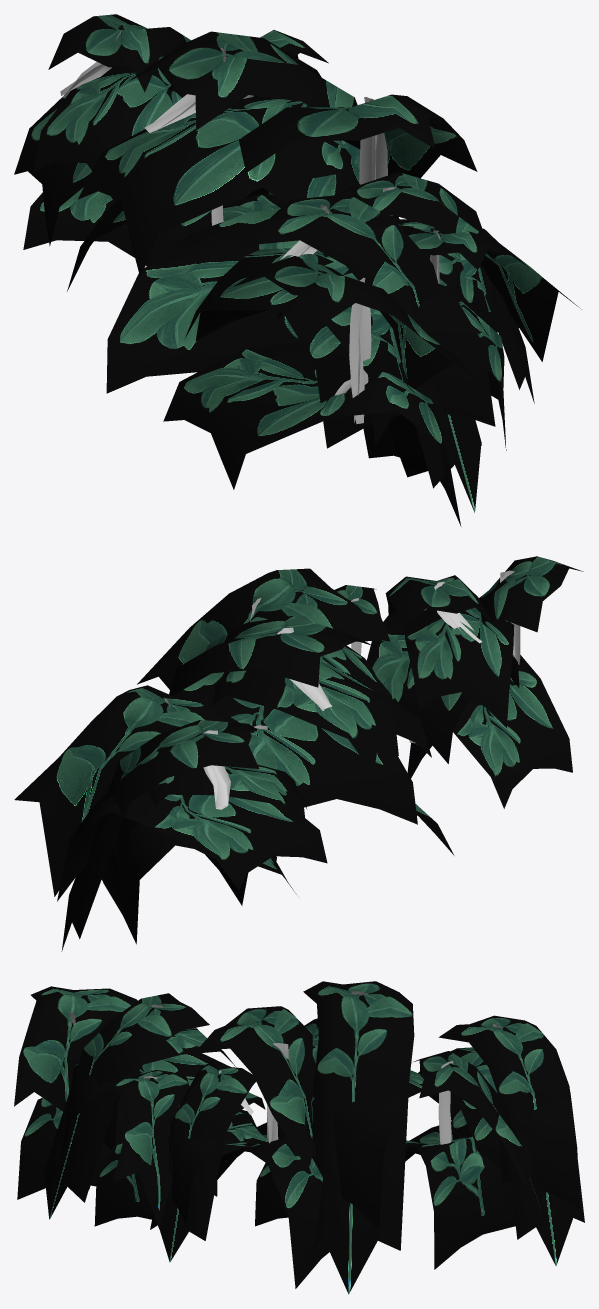
File: Env_Main_Bulbophyllumplumatum_01.fbx
3 views of the same model, one above another, from view 1: azimuth 30°, elevation 25°; view 2: azimuth 150°, elevation 25°; view 3: azimuth 270°, elevation 25° (orthographic). The views are drawn at different scales.
Parts seen in each view (by area): view 1: Plane.216, Plane.234, Plane.215, Plane.237, Plane.236, Plane.218, Plane.219, Plane.238, Plane.221, Plane.235, Plane.242, Plane.243 (+12 smaller); view 2: Plane.224, Plane.222, Plane.217, Plane.223, Plane.216, Plane.234, Plane.219, Plane.235, Plane.218, Plane.236, Plane.221, Plane.238 (+5 smaller); view 3: Plane.218, Plane.223, Plane.237, Plane.219, Plane.220, Plane.238, Plane.242, Plane.243, Plane.217, Plane.215, Plane.222, Plane.224 (+9 smaller).
Boxes of the visible parts, <box> form: Plane.216: <box>78,96,360,277</box>; Plane.234: <box>163,342,461,526</box>; Plane.215: <box>106,208,395,393</box>; Plane.237: <box>242,194,481,512</box>; Plane.236: <box>195,284,495,448</box>; Plane.218: <box>129,31,399,219</box>; Plane.219: <box>239,94,477,178</box>; Plane.238: <box>233,256,480,477</box>; Plane.221: <box>33,56,250,202</box>; Plane.235: <box>185,248,391,444</box>; Plane.242: <box>342,172,534,403</box>; Plane.243: <box>402,226,580,361</box>; Plane.224: <box>14,685,239,896</box>; Plane.222: <box>57,792,327,901</box>; Plane.217: <box>173,672,417,824</box>; Plane.223: <box>61,720,259,951</box>; Plane.216: <box>212,661,431,773</box>; Plane.234: <box>407,655,572,808</box>; Plane.219: <box>137,568,388,689</box>; Plane.235: <box>405,607,514,727</box>; Plane.218: <box>169,616,372,696</box>; Plane.236: <box>366,612,519,763</box>; Plane.221: <box>114,764,307,889</box>; Plane.238: <box>479,556,583,632</box>; Plane.218: <box>303,981,414,1294</box>; Plane.223: <box>438,1015,584,1266</box>; Plane.237: <box>44,993,209,1219</box>; Plane.219: <box>197,1006,315,1169</box>; Plane.220: <box>405,1122,515,1269</box>; Plane.238: <box>14,986,137,1189</box>; Plane.242: <box>150,1062,255,1262</box>; Plane.243: <box>102,1070,189,1228</box>; Plane.217: <box>311,1070,438,1229</box>; Plane.215: <box>217,1122,329,1288</box>; Plane.222: <box>450,1091,579,1208</box>; Plane.224: <box>413,1051,548,1227</box>.
Size of the model in its own units: 58.79 by 49.29 by 106.
